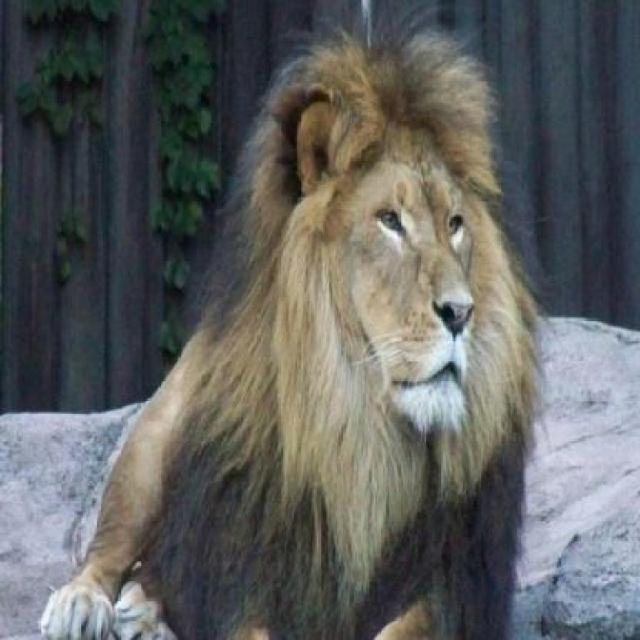Lion: (34, 3, 548, 639)
